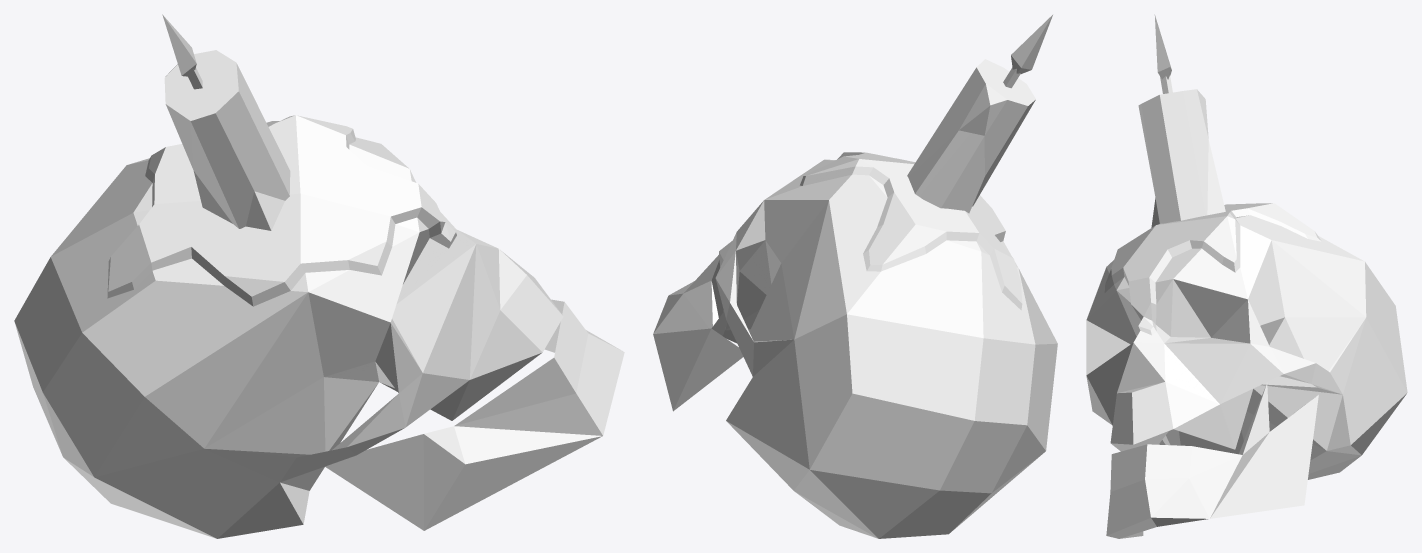
The model's file is head_candle.fbx.
The picture shows the model from 3 angles, left to right: view 1: azimuth 30°, elevation 25°; view 2: azimuth 150°, elevation 25°; view 3: azimuth 270°, elevation 25°; orthographic projection. The views are drawn at different scales.
Parts seen in each view (by area): view 1: Head_Candle_A.004; view 2: Head_Candle_A.004; view 3: Head_Candle_A.004.
Part boxes in pixels (x1,y1,x2,y2): Head_Candle_A.004: (14, 14, 624, 538); Head_Candle_A.004: (653, 15, 1057, 538); Head_Candle_A.004: (1086, 14, 1407, 538).
Bounding box in the file's own units: 12.92 × 14.14 × 9.53.
